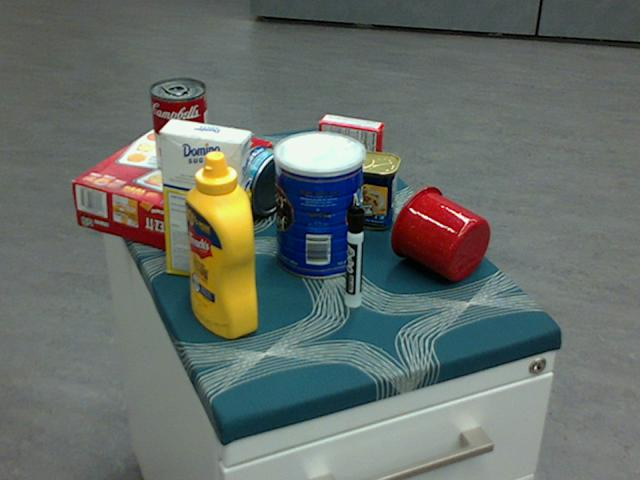cracker_box: (71, 117, 270, 257)
gelatin_box: (319, 114, 384, 176)
large_marker: (346, 205, 364, 308)
master_chef_can: (273, 130, 364, 279)
mug: (390, 185, 491, 280)
mustard_bottle: (186, 151, 256, 339)
potted_meat_can: (315, 147, 399, 228)
sugar_box: (158, 119, 250, 285)
tomato_soup_can: (149, 78, 209, 175)
tuna_fish_can: (230, 144, 291, 215)
